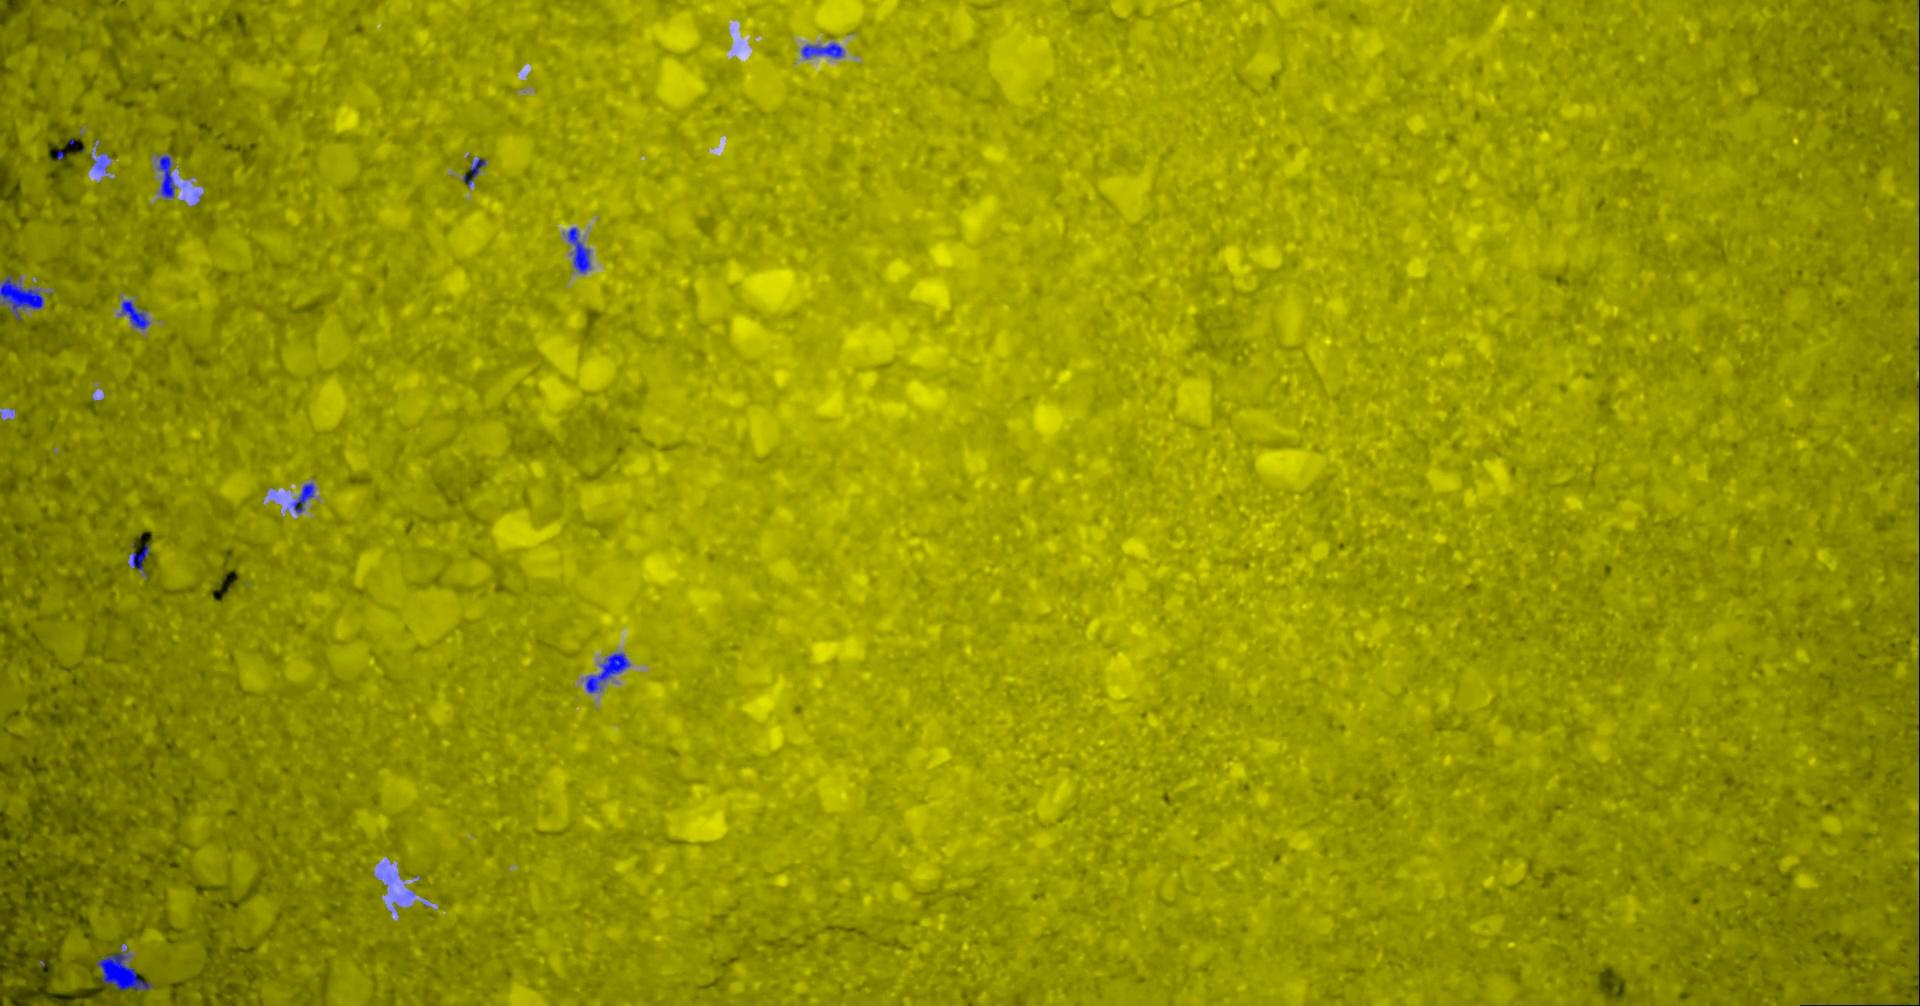ant: (97, 950, 152, 989), (0, 276, 43, 321), (585, 652, 629, 692), (566, 227, 590, 272), (119, 300, 149, 329), (127, 542, 149, 579), (291, 481, 314, 513), (801, 42, 843, 58), (157, 155, 174, 197), (462, 158, 485, 185), (91, 152, 105, 169)
